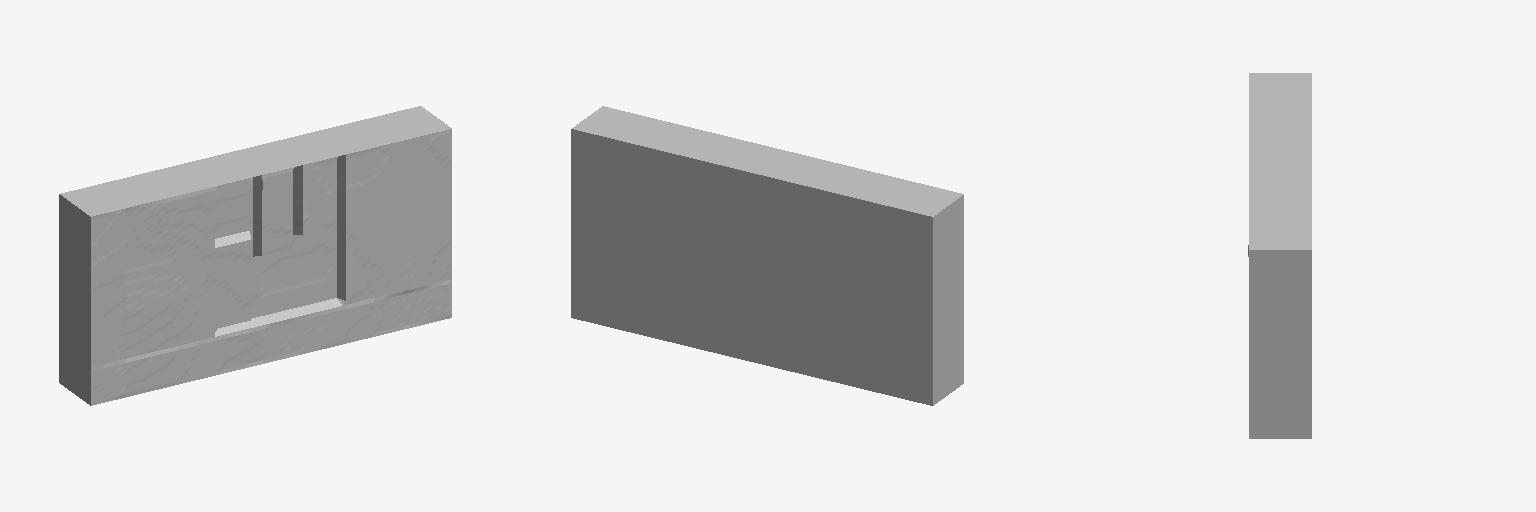
Rendered from rectangular_prism_bumps_3_8.obj.
The picture shows the model from 3 angles: view 1: azimuth 30°, elevation 25°; view 2: azimuth 150°, elevation 25°; view 3: azimuth 270°, elevation 25°; orthographic projection.
Bounding box in the file's own units: 10 × 5 × 1.51.